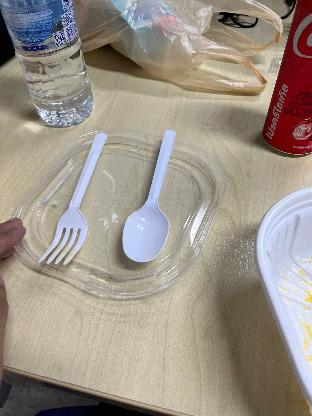Others: (36, 126, 110, 276), (113, 128, 189, 272)
Plastic Bottle: (1, 0, 96, 124)
